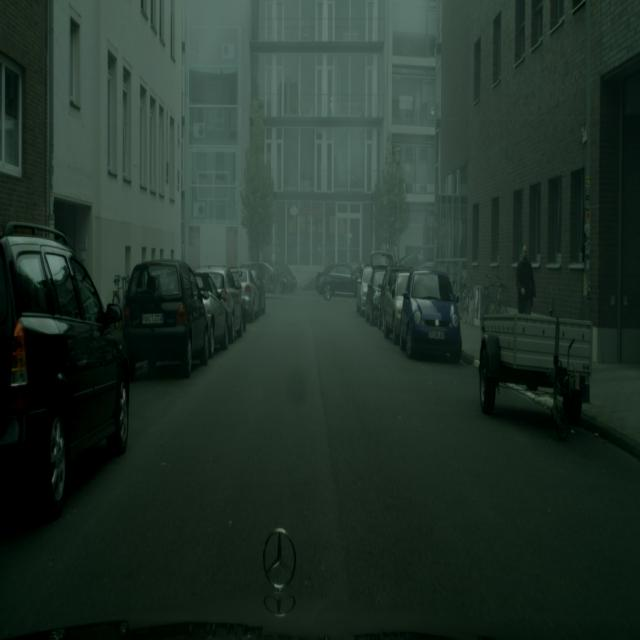person: (516, 244, 536, 315)
truck: (1, 222, 131, 517), (122, 258, 212, 380), (398, 266, 462, 362), (202, 267, 245, 339), (194, 271, 229, 352), (378, 264, 410, 341), (317, 262, 359, 301), (232, 266, 260, 324), (365, 266, 387, 328), (241, 264, 267, 311), (356, 265, 373, 315), (275, 263, 297, 294), (260, 262, 278, 292)
